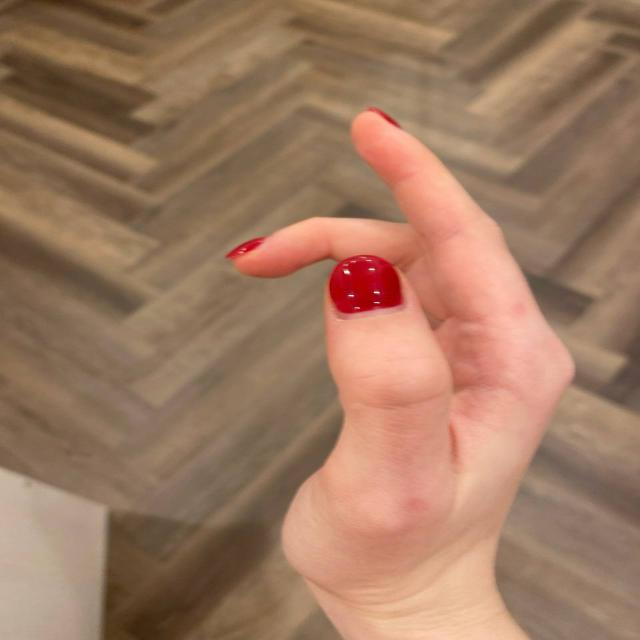b: (213, 86, 582, 562)
